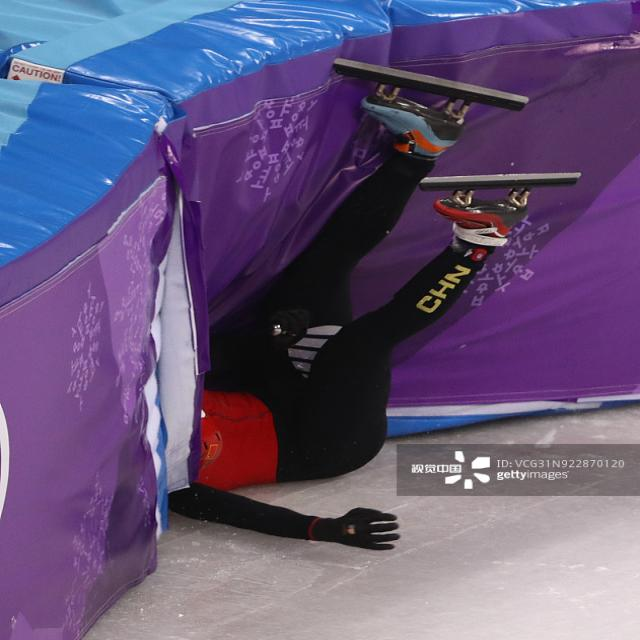fall: (176, 115, 512, 546)
